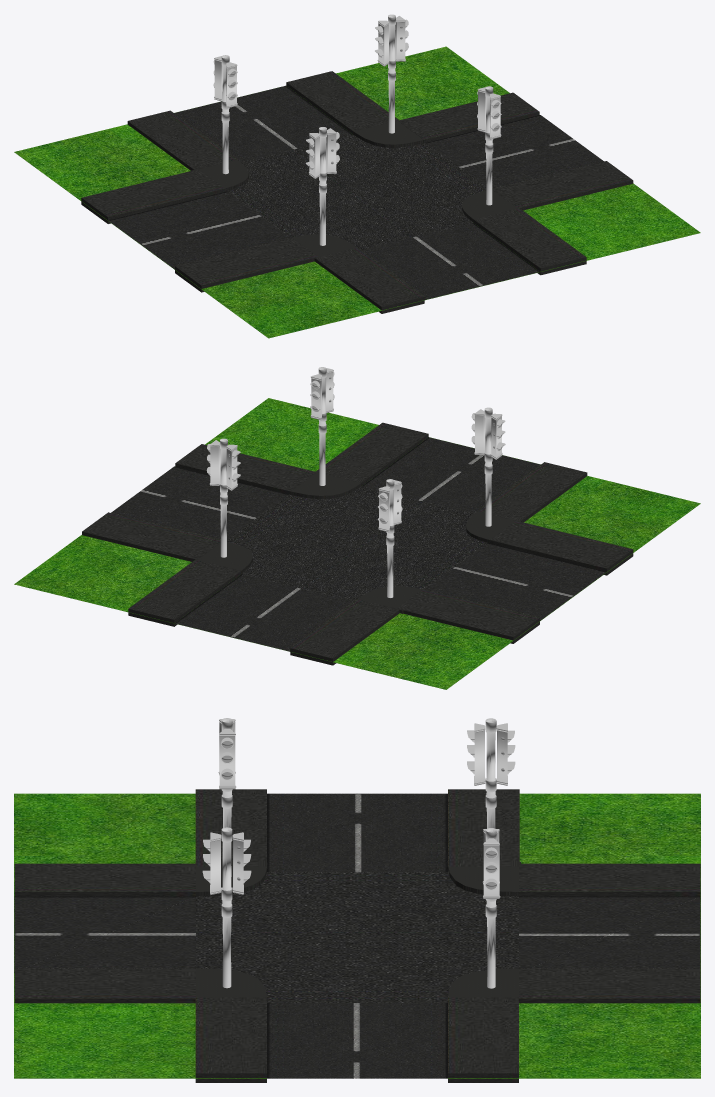
File: all (1).FBX
3 views of the same model, one above another, from view 1: azimuth 30°, elevation 25°; view 2: azimuth 150°, elevation 25°; view 3: azimuth 270°, elevation 25° (orthographic). The views are drawn at different scales.
Visible parts, largest first — view 1: Box003; view 2: Box003; view 3: Box003.
Part boxes in pixels (<box>): Box003: <box>14,14,700,338</box>; Box003: <box>14,367,700,689</box>; Box003: <box>14,718,700,1082</box>.
Size of the model in its own units: 2064 by 561 by 2103.
